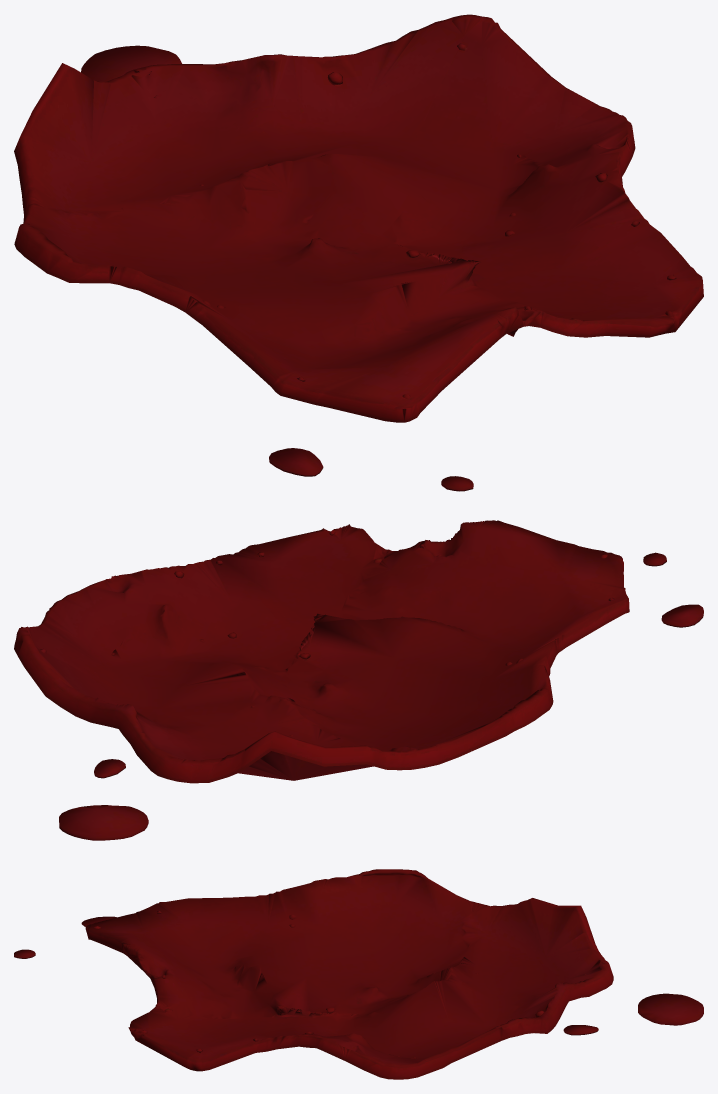
Rendered from blood.glb.
3 views of the same model, one above another, from view 1: azimuth 30°, elevation 25°; view 2: azimuth 150°, elevation 25°; view 3: azimuth 270°, elevation 25° (orthographic). The views are drawn at different scales.
Parts seen in each view (by area): view 1: tripo_node_39a2bdb4-d64e-457b-8d82-e989d90208f5; view 2: tripo_node_39a2bdb4-d64e-457b-8d82-e989d90208f5; view 3: tripo_node_39a2bdb4-d64e-457b-8d82-e989d90208f5.
Boxes of the visible parts, x1=… form: tripo_node_39a2bdb4-d64e-457b-8d82-e989d90208f5: x1=14, y1=14, x2=703, y2=491; tripo_node_39a2bdb4-d64e-457b-8d82-e989d90208f5: x1=14, y1=520, x2=703, y2=840; tripo_node_39a2bdb4-d64e-457b-8d82-e989d90208f5: x1=14, y1=869, x2=703, y2=1079.
Size of the model in its own units: 0.6426 by 0.0996 by 0.998.
Materials: 1 (1 with a texture image).
